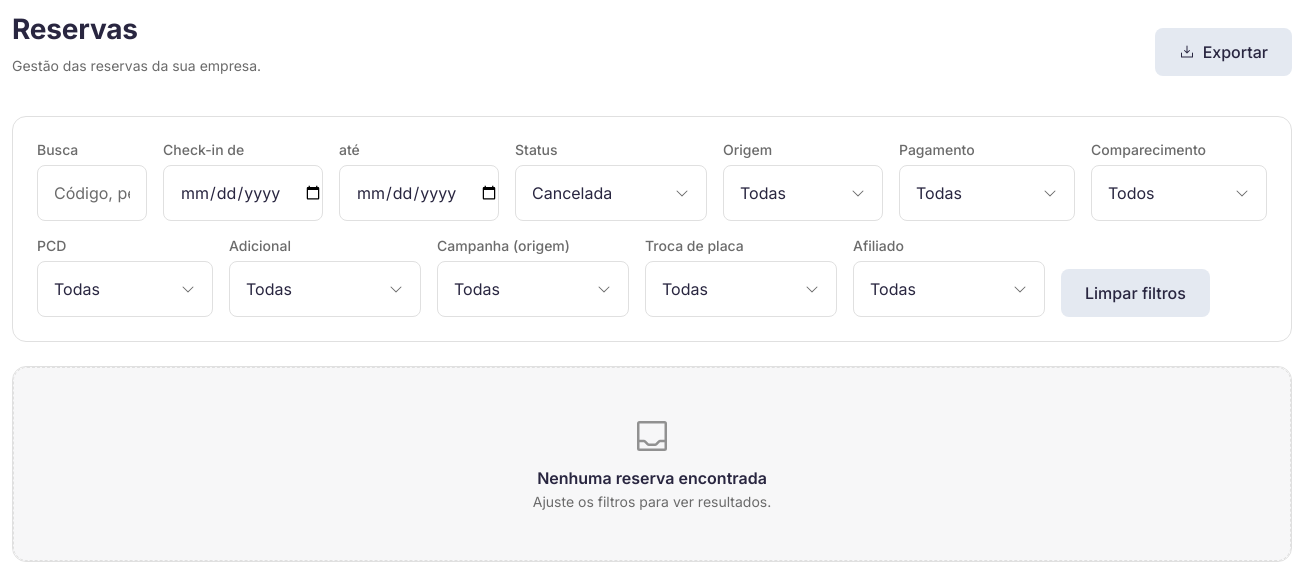
OperatorBookings · filtros no endereço (13/10/2026) › Limpar filtros volta tudo ao padrão e para a primeira página
Click the button "Limpar filtros" at (1135, 293), box [1061, 269, 1210, 317]
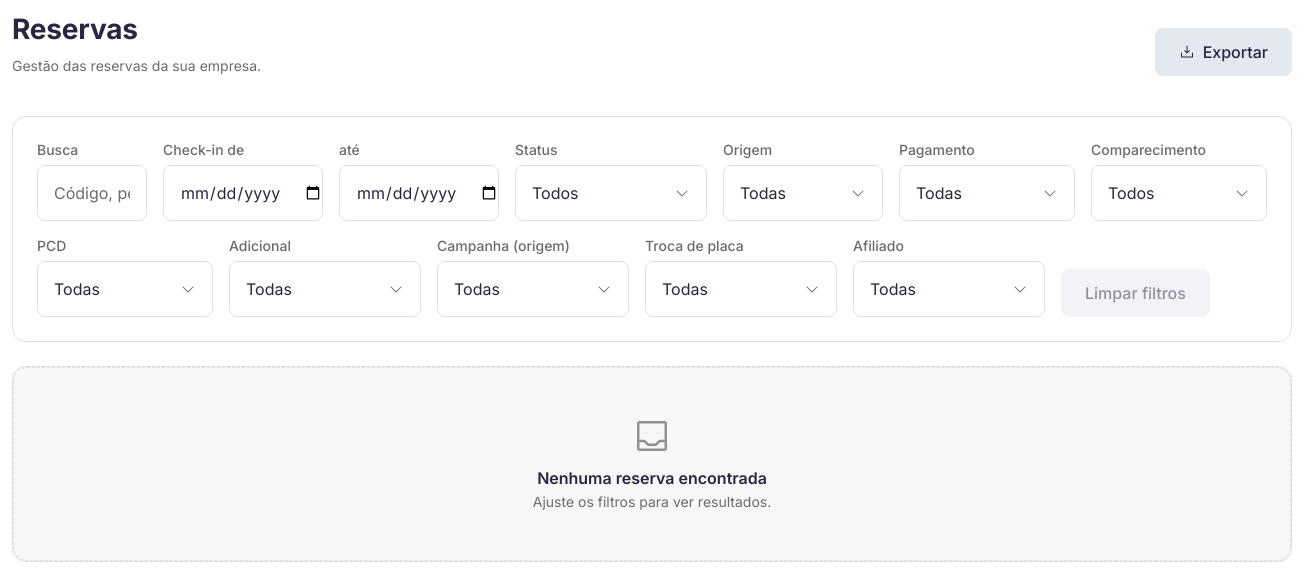
expect the button "Limpar filtros" is disabled: met, box [1061, 269, 1210, 317]
